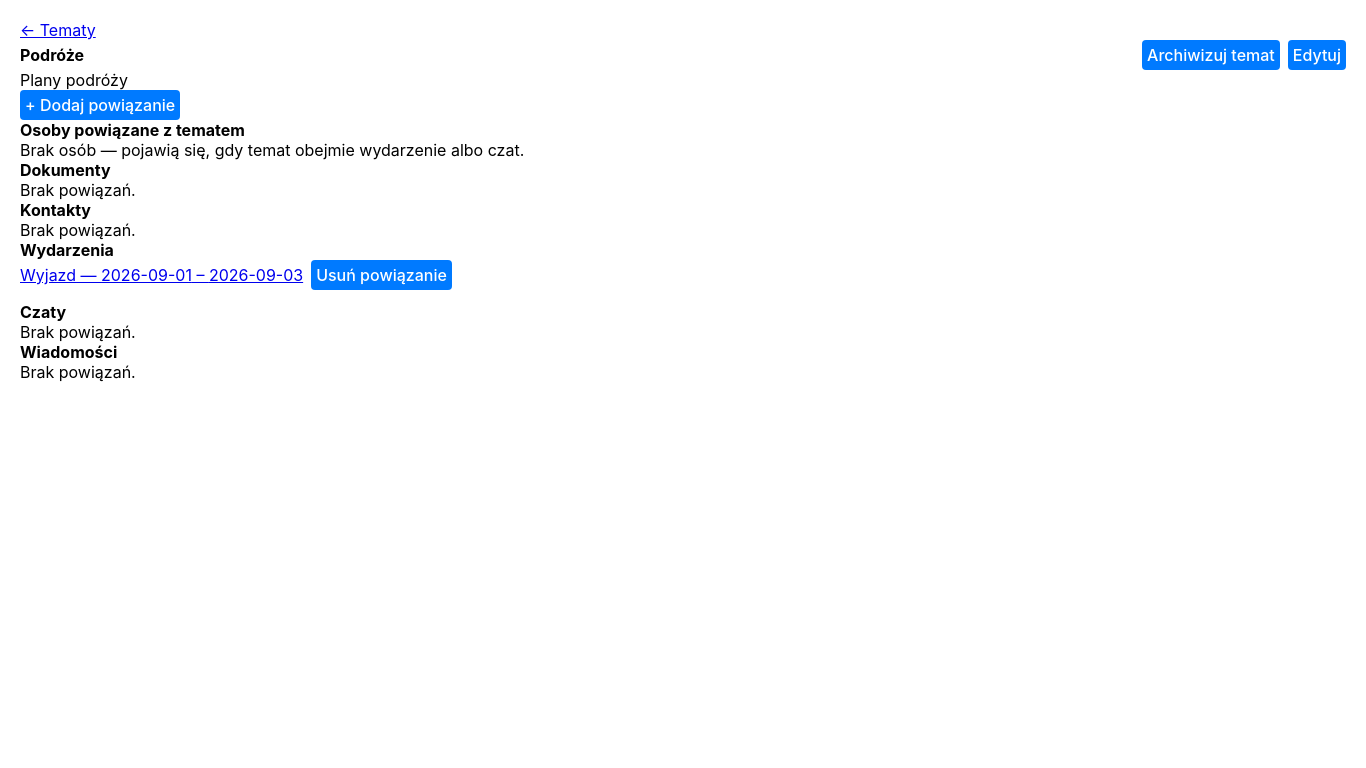
TopicDetail › saves changes and returns to presentation
The image size is (1366, 768).
Expected: the heading "Podróże" is shown, [20,45,84,65]
Click the button "Edytuj".
click(1317, 55)  # box [1288,40,1346,70]
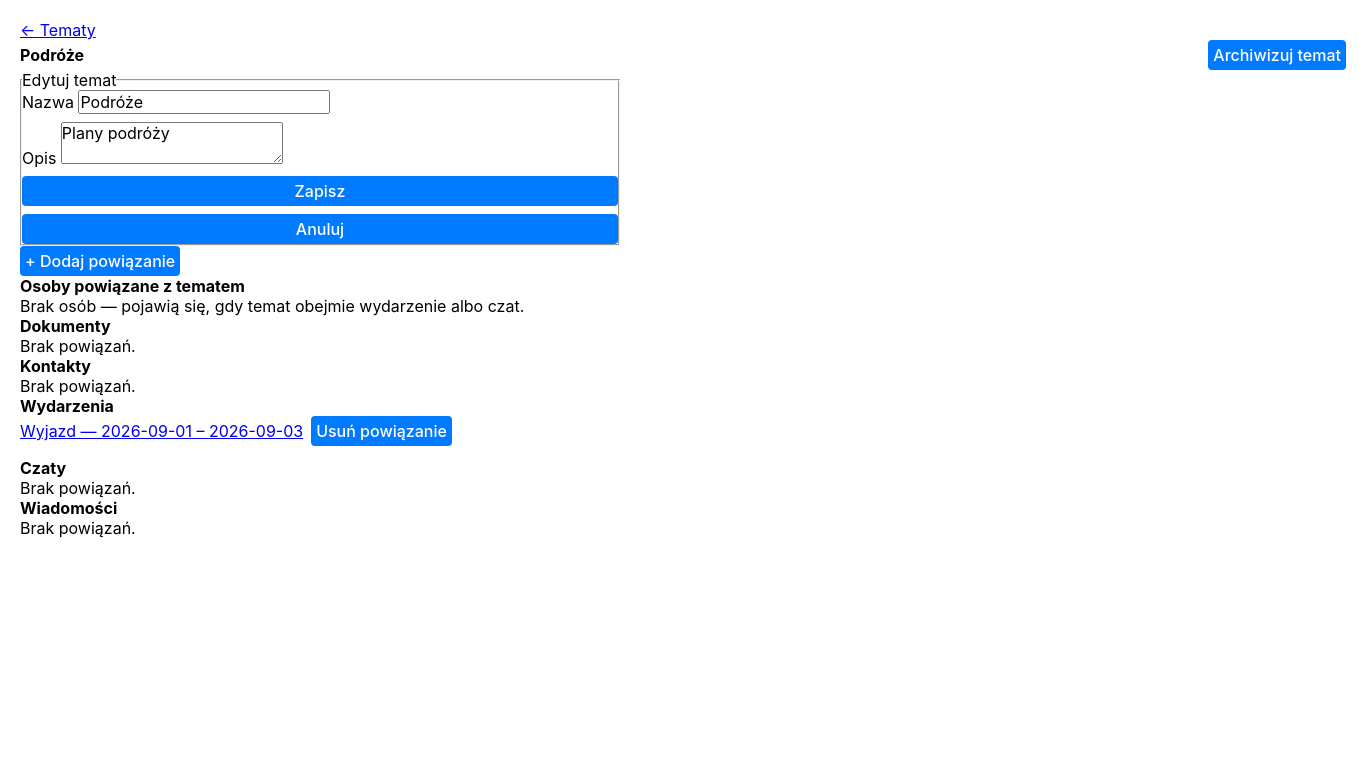
Replace the text in the field labelled "Nazwa" with "Wyprawy" at (204, 102), box [78,90,330,114]
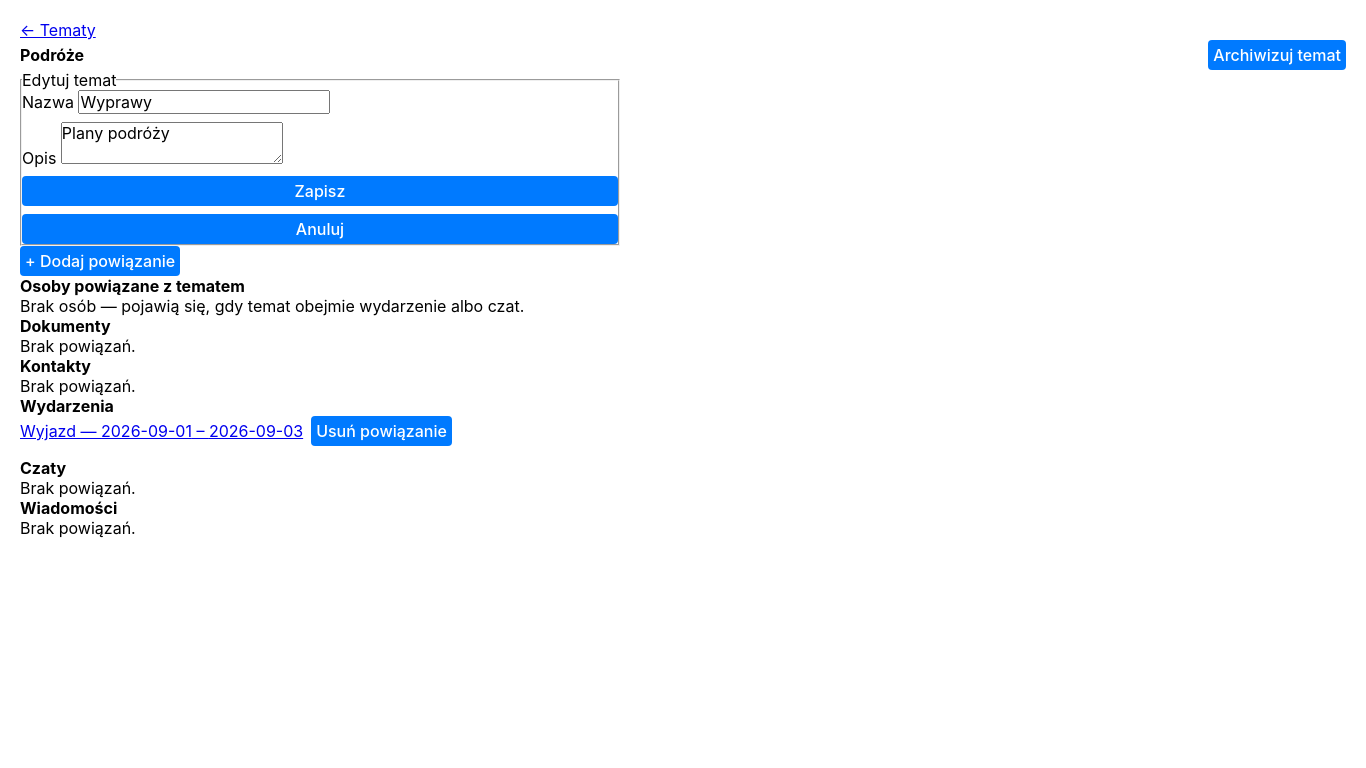
Click the button "Zapisz".
click(320, 191)  # box [22,176,618,206]
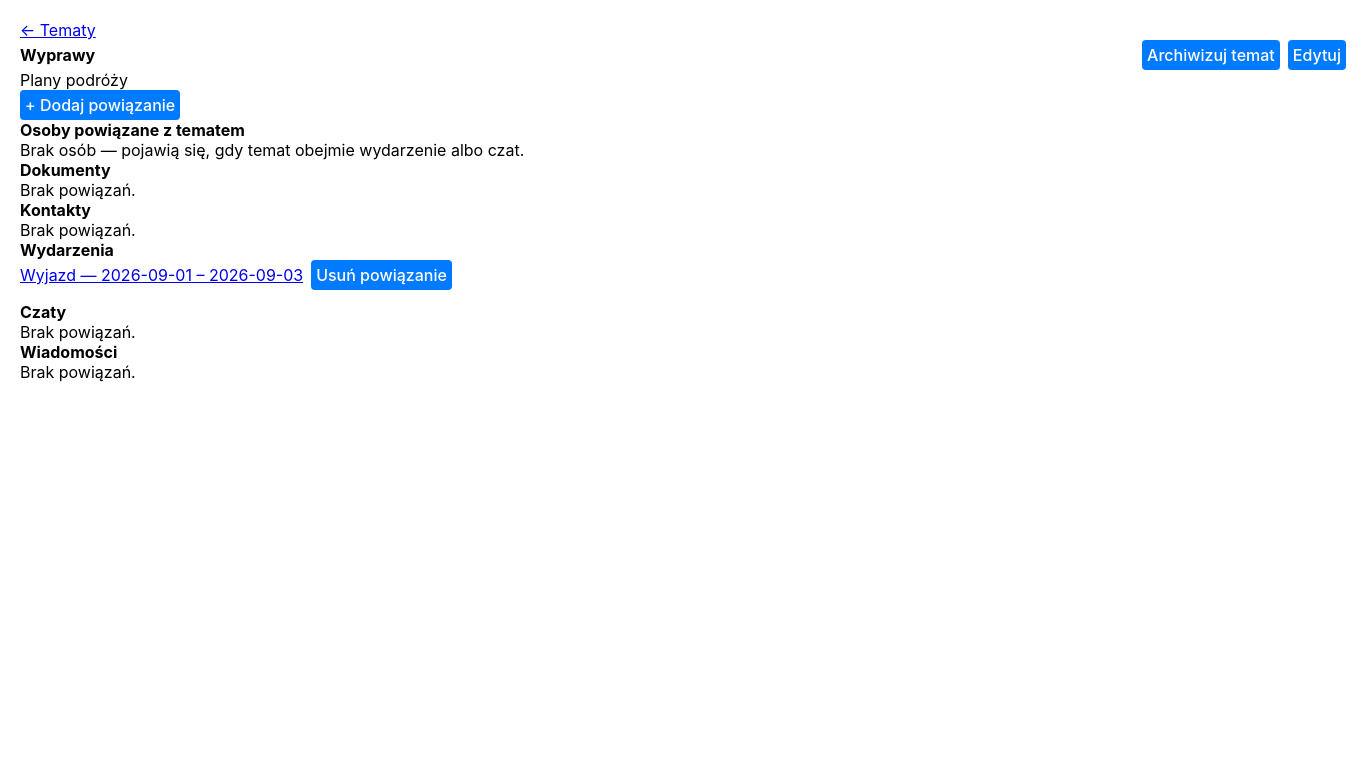
Now the heading "Wyprawy" is shown, box [20,45,95,65]
Now the field is gone
